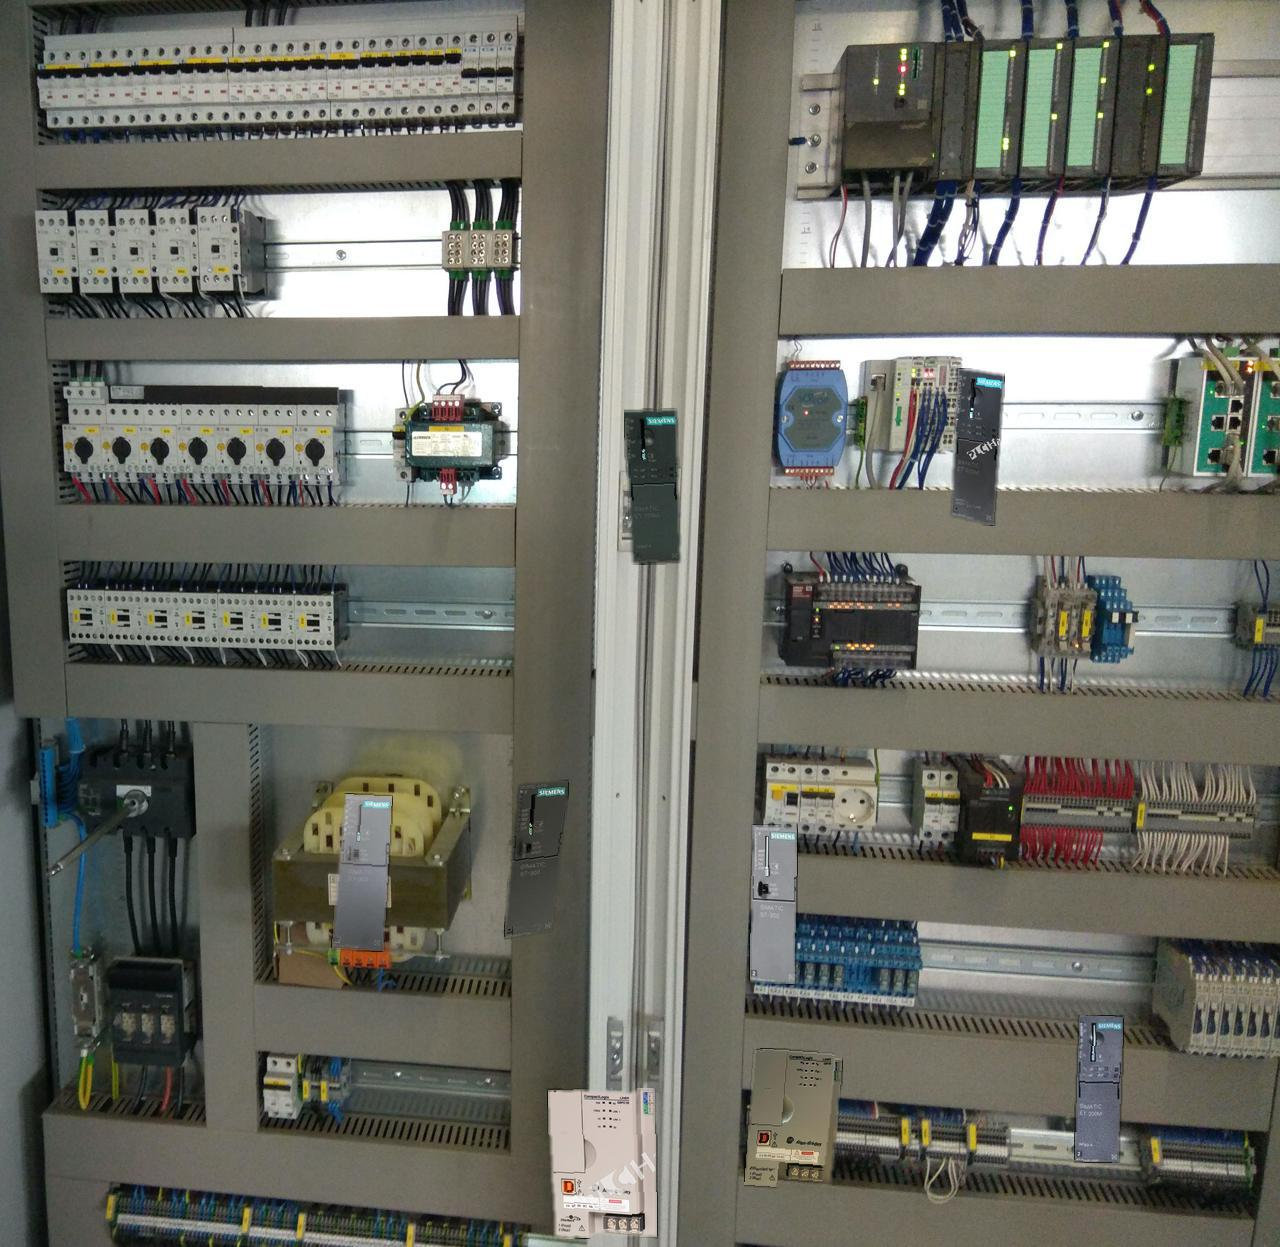AllenBradley: (549, 1089, 656, 1237), (744, 1048, 841, 1186)
Siemens: (504, 781, 568, 937), (331, 794, 391, 950), (750, 825, 795, 983)
